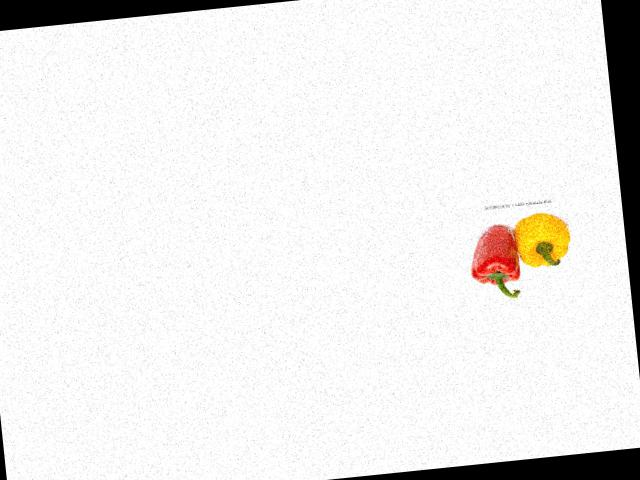bell_pepper: (509, 205, 576, 274)
